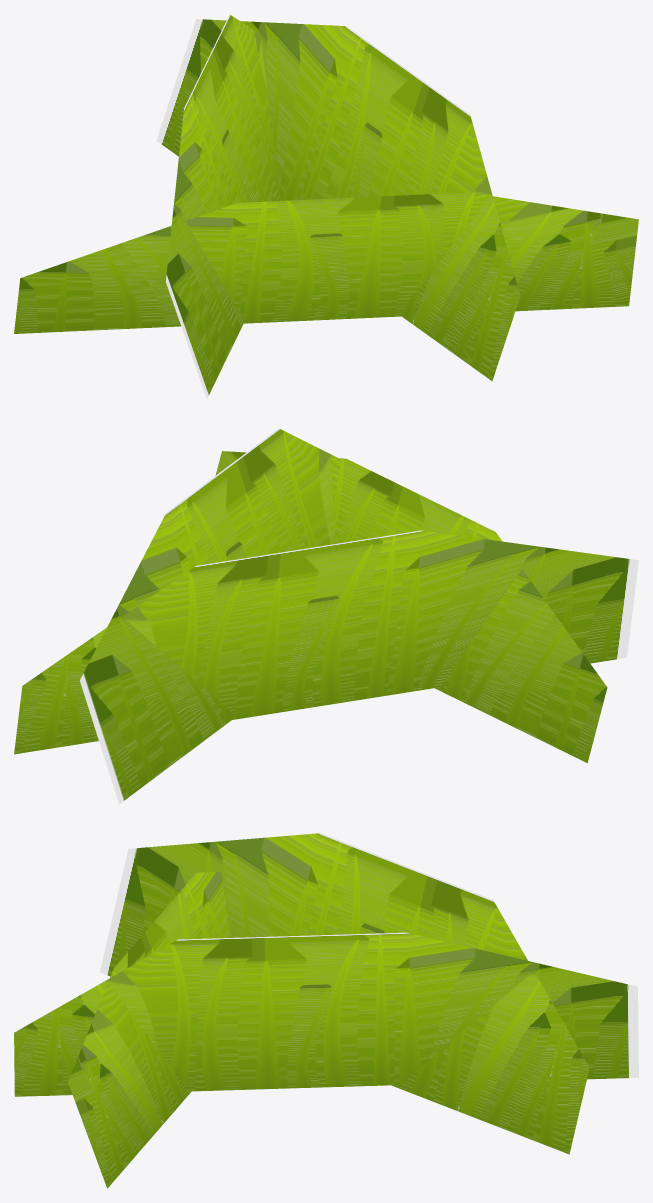
Rendered from SM_Grass_Medium03_Unity.fbx.
The picture shows the model from 3 angles, top to bottom: view 1: azimuth 30°, elevation 25°; view 2: azimuth 150°, elevation 25°; view 3: azimuth 270°, elevation 25°; orthographic projection. The views are drawn at different scales.
Visible parts, largest first — view 1: Grass_Medium03_LOD0; view 2: Grass_Medium03_LOD0; view 3: Grass_Medium03_LOD0.
Boxes of the visible parts, x1=… form: Grass_Medium03_LOD0: x1=14, y1=14, x2=638, y2=398; Grass_Medium03_LOD0: x1=14, y1=428, x2=638, y2=804; Grass_Medium03_LOD0: x1=14, y1=833, x2=638, y2=1188.
Size of what is drawn, in the model's own units: 1.67 by 0.6268 by 1.82.
